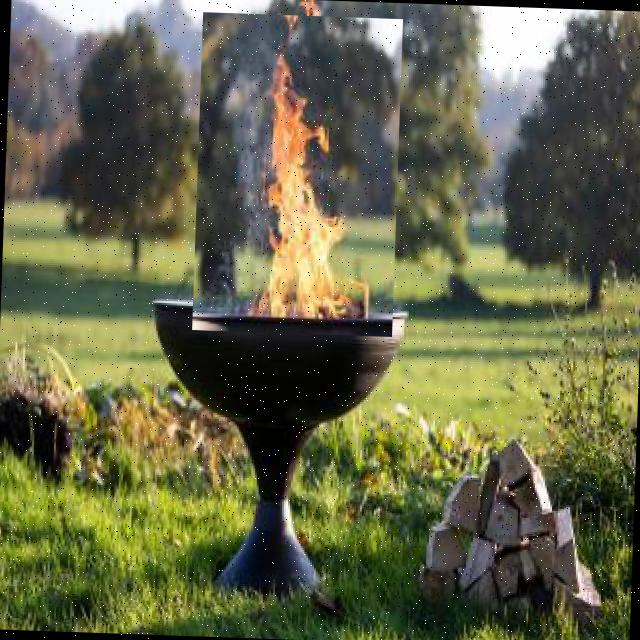fire: (192, 11, 402, 336)
